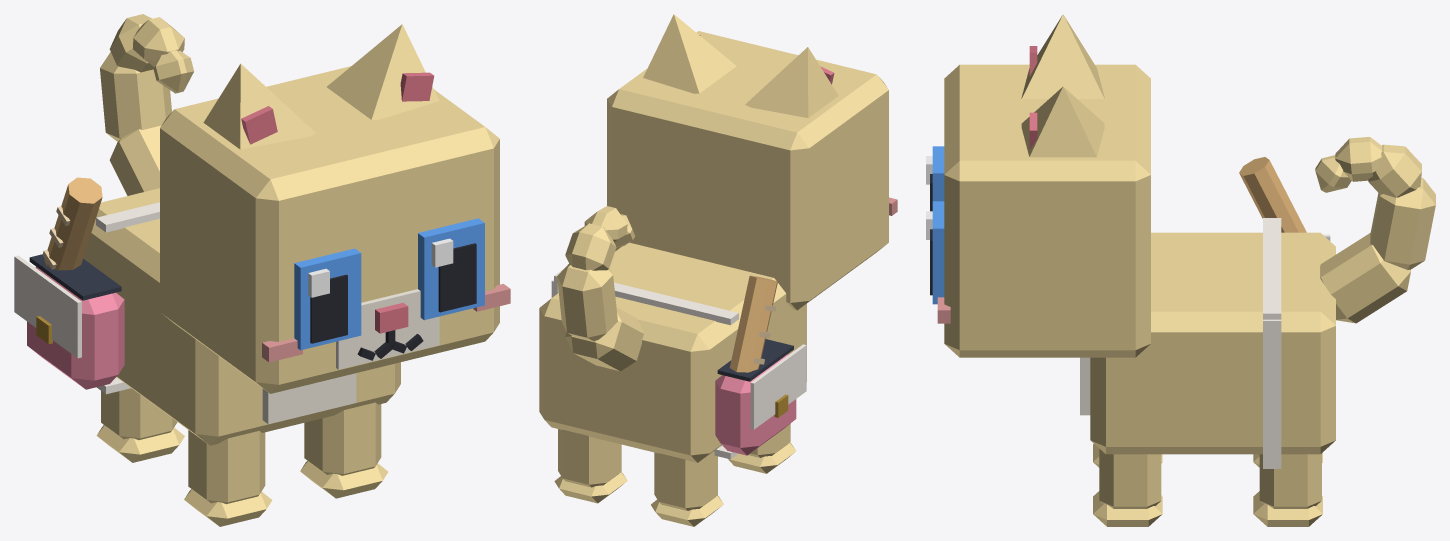
File: CatCafe_Cat_Butter.fbx
The picture shows the model from 3 angles, left to right: view 1: azimuth 30°, elevation 25°; view 2: azimuth 150°, elevation 25°; view 3: azimuth 270°, elevation 25°; orthographic projection. The views are drawn at different scales.
Visible parts, largest first — view 1: CatCafe_Cat_Butter_Head, CatCafe_Cat_Butter_Body, CatCafe_Cat_Butter_Tail, CatCafe_Cat_Butter_LegF2, CatCafe_Cat_Butter_LegF1, CatCafe_Cat_Butter_Eye2, CatCafe_Cat_Butter_Eye1, CatCafe_Cat_Butter_EarL, CatCafe_Cat_Butter_EarR, CatCafe_Cat_Butter_LegB2; view 2: CatCafe_Cat_Butter_Head, CatCafe_Cat_Butter_Body, CatCafe_Cat_Butter_Tail, CatCafe_Cat_Butter_LegB2, CatCafe_Cat_Butter_EarL, CatCafe_Cat_Butter_LegB1, CatCafe_Cat_Butter_EarR, CatCafe_Cat_Butter_LegF2; view 3: CatCafe_Cat_Butter_Head, CatCafe_Cat_Butter_Body, CatCafe_Cat_Butter_Tail, CatCafe_Cat_Butter_LegF1, CatCafe_Cat_Butter_LegB1, CatCafe_Cat_Butter_EarL, CatCafe_Cat_Butter_EarR, CatCafe_Cat_Butter_Eye1, CatCafe_Cat_Butter_Eye2.
Boxes of the visible parts, x1,y1,x2,y2 form: CatCafe_Cat_Butter_Head: (160,66,510,393); CatCafe_Cat_Butter_Body: (14,177,400,445); CatCafe_Cat_Butter_Tail: (100,14,193,195); CatCafe_Cat_Butter_LegF2: (184,430,272,526); CatCafe_Cat_Butter_LegF1: (300,402,388,498); CatCafe_Cat_Butter_Eye2: (294,248,361,350); CatCafe_Cat_Butter_Eye1: (418,218,484,320); CatCafe_Cat_Butter_EarL: (327,24,439,119); CatCafe_Cat_Butter_EarR: (203,63,316,149); CatCafe_Cat_Butter_LegB2: (96,388,184,462); CatCafe_Cat_Butter_Head: (607,31,897,310); CatCafe_Cat_Butter_Body: (539,242,806,462); CatCafe_Cat_Butter_Tail: (557,206,643,371); CatCafe_Cat_Butter_LegB2: (651,451,723,526); CatCafe_Cat_Butter_EarL: (643,14,736,93); CatCafe_Cat_Butter_LegB1: (554,429,627,503); CatCafe_Cat_Butter_EarR: (745,47,838,117); CatCafe_Cat_Butter_LegF2: (728,423,796,473); CatCafe_Cat_Butter_Head: (937,64,1150,357); CatCafe_Cat_Butter_Body: (1080,157,1335,468); CatCafe_Cat_Butter_Tail: (1315,137,1435,323); CatCafe_Cat_Butter_LegF1: (1093,449,1162,526); CatCafe_Cat_Butter_LegB1: (1253,453,1322,526); CatCafe_Cat_Butter_EarL: (1021,86,1104,157); CatCafe_Cat_Butter_EarR: (1021,14,1104,98); CatCafe_Cat_Butter_Eye1: (926,201,944,304); CatCafe_Cat_Butter_Eye2: (926,146,944,211).
Size of the model in its own units: 1.18 by 1.89 by 1.97.
1 material, 1 textured.
